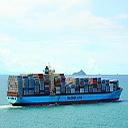Ships: (5, 67, 123, 107)
